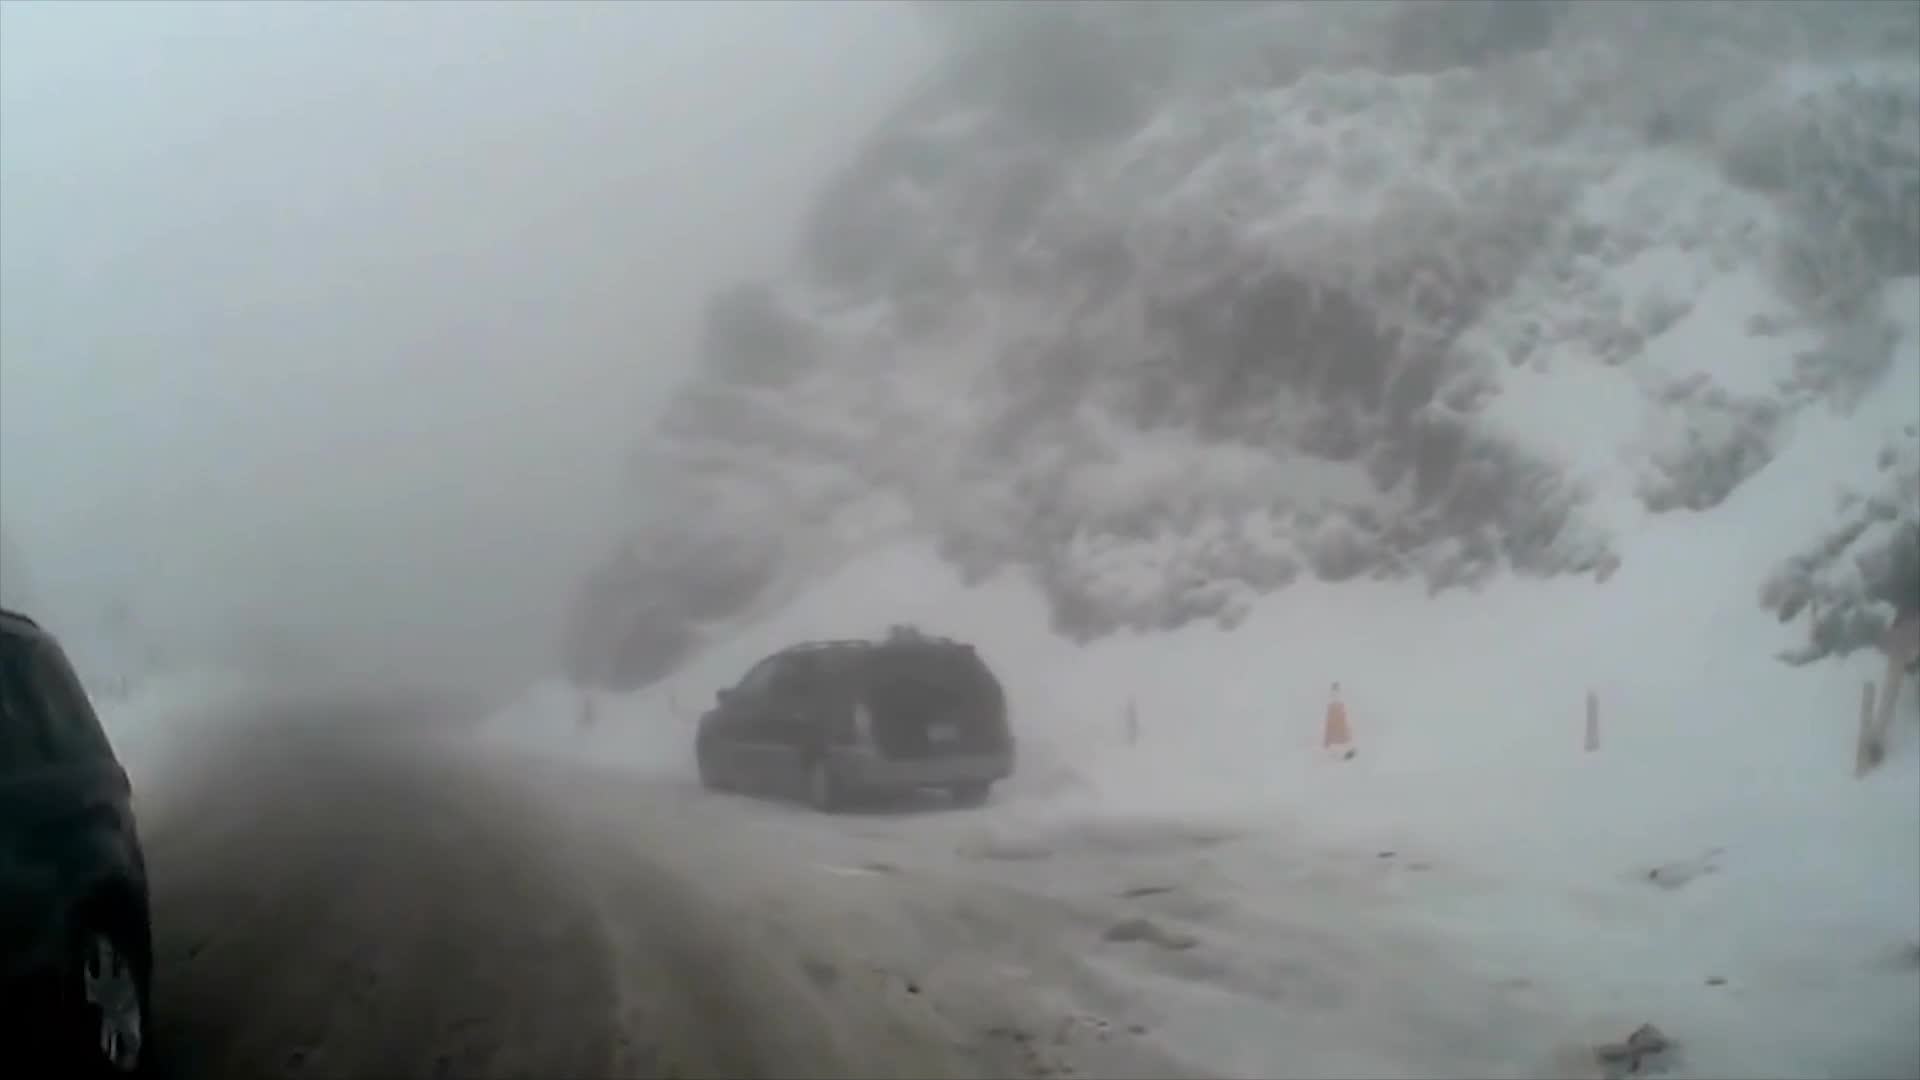vehicle: (0, 600, 158, 1079), (692, 636, 1014, 808)
